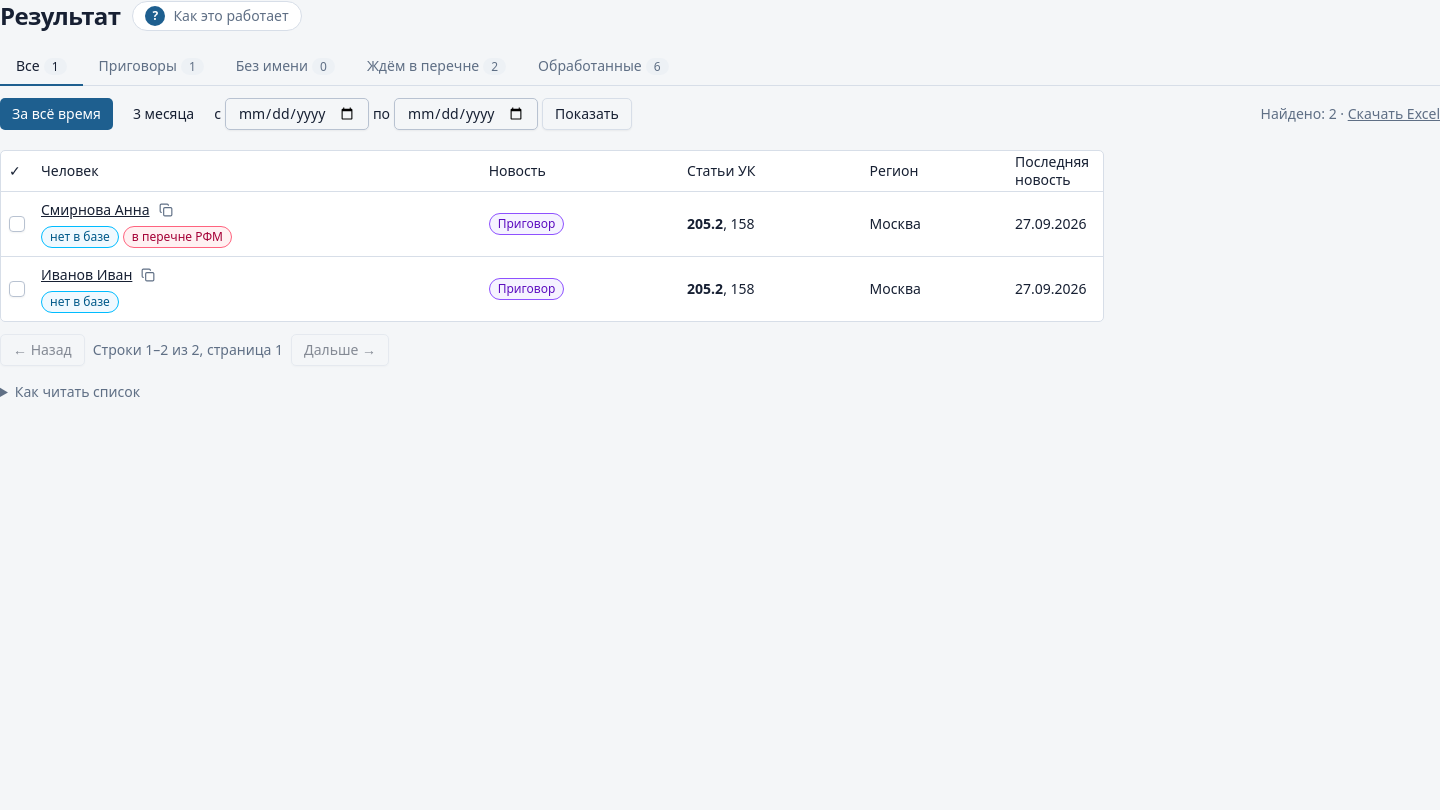
on a narrow screen opens the person tapped over the table, and no one before
The image size is (1440, 810).
Step 1. Click the cell "Приговор" in the row of "Иванов Иван" → (527, 288), box [481, 256, 679, 320]
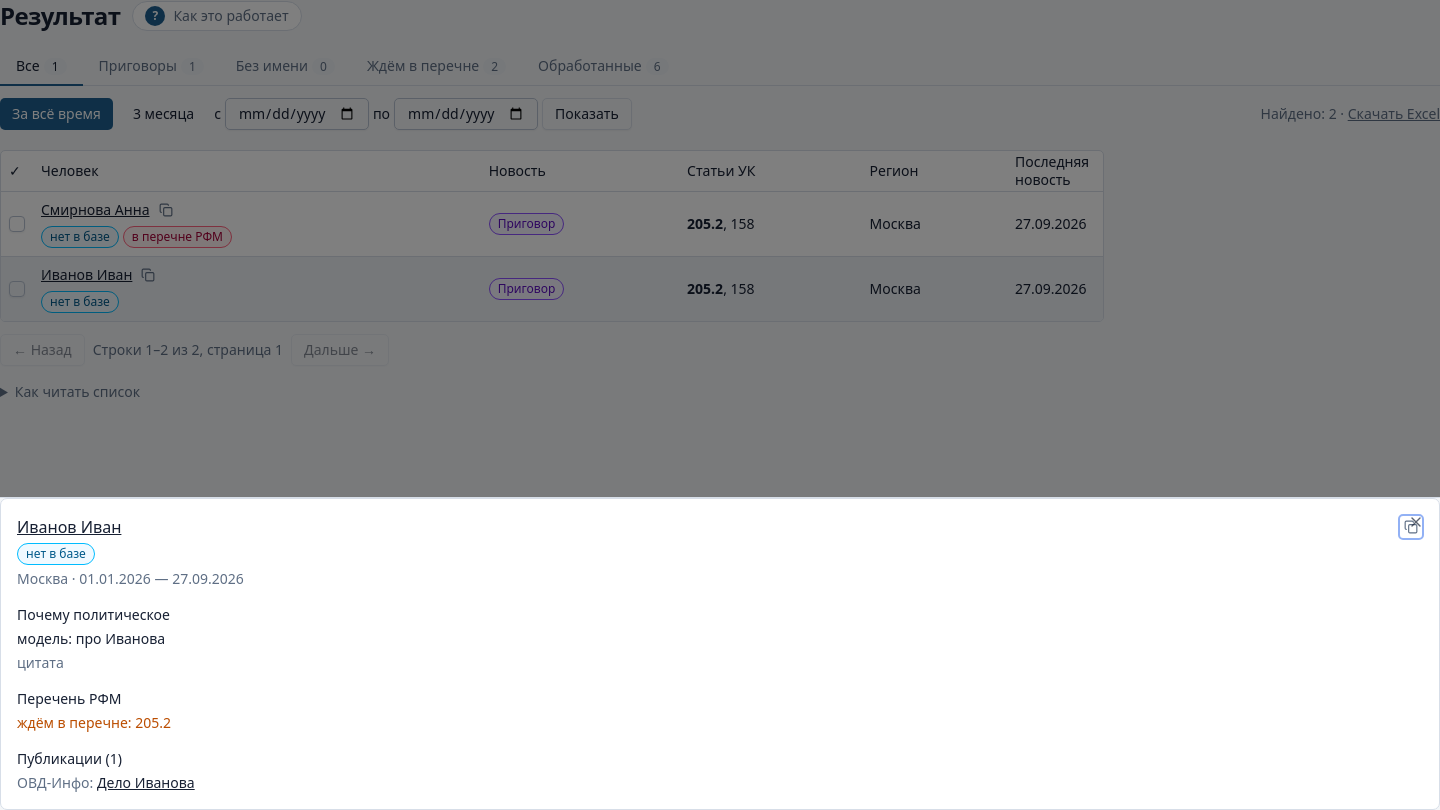
Expected: the element named "Подробно: Иванов Иван" is shown, [0, 498, 1439, 809]
